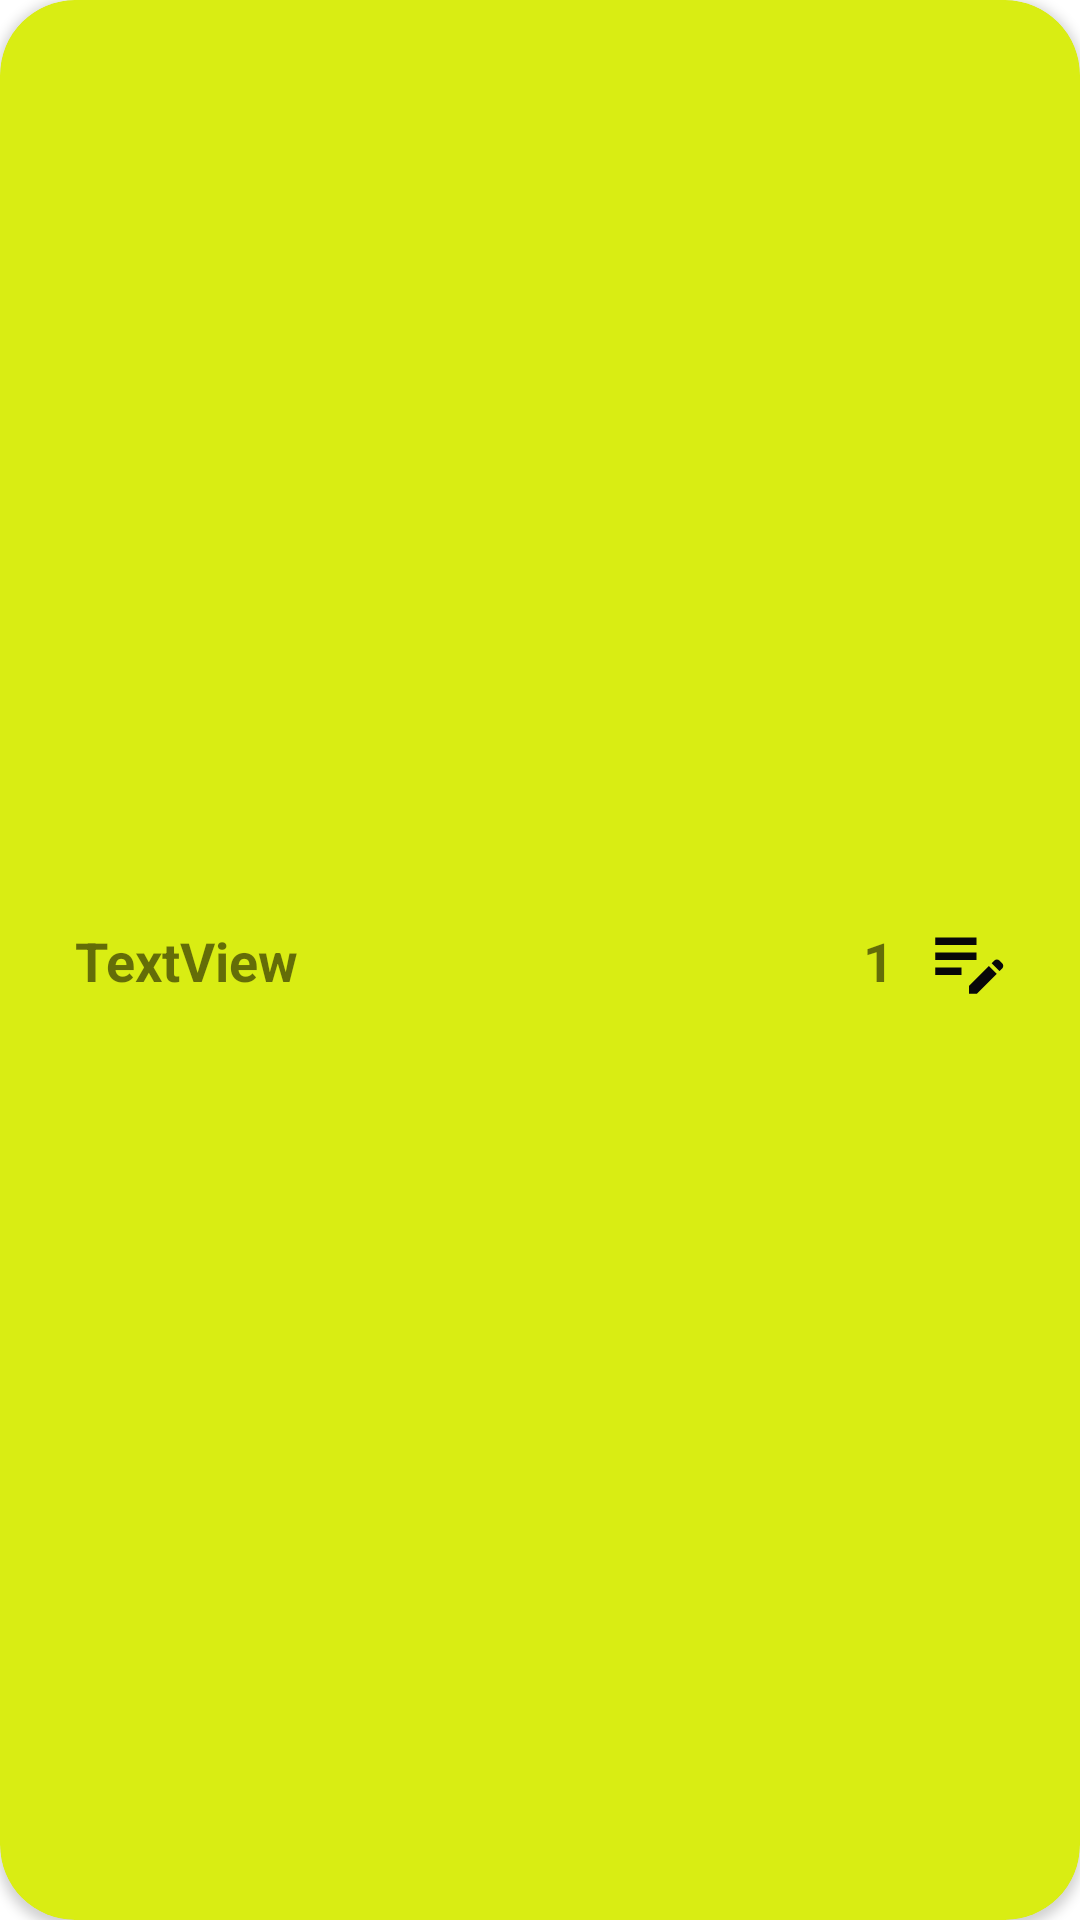

Named icons in this screenshot (1080x1920) and their centers, (x=x, y=y):
edit note: (x=969, y=965)
